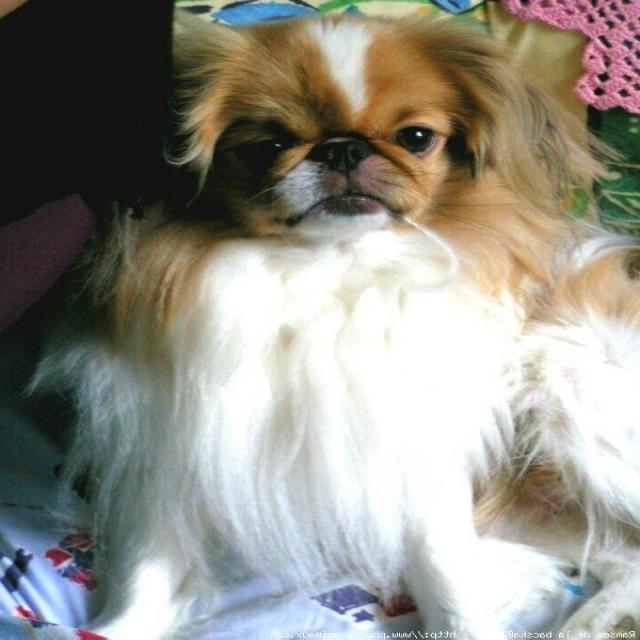husky: (15, 17, 621, 638)
